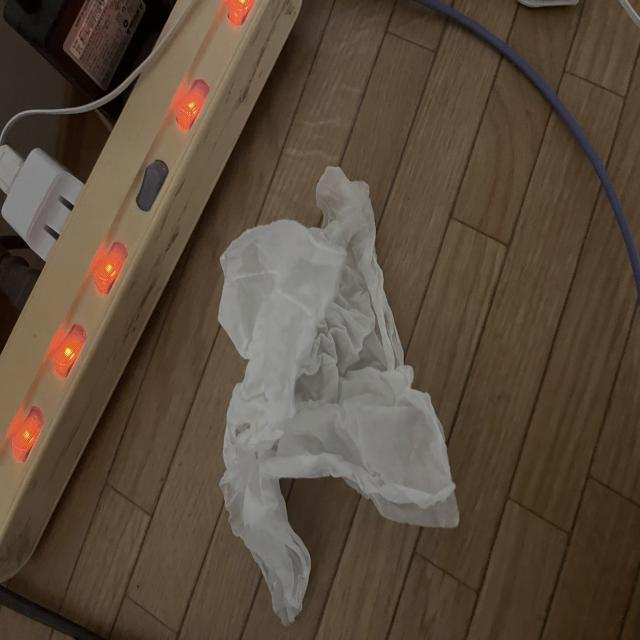Paper: (214, 144, 476, 610)
